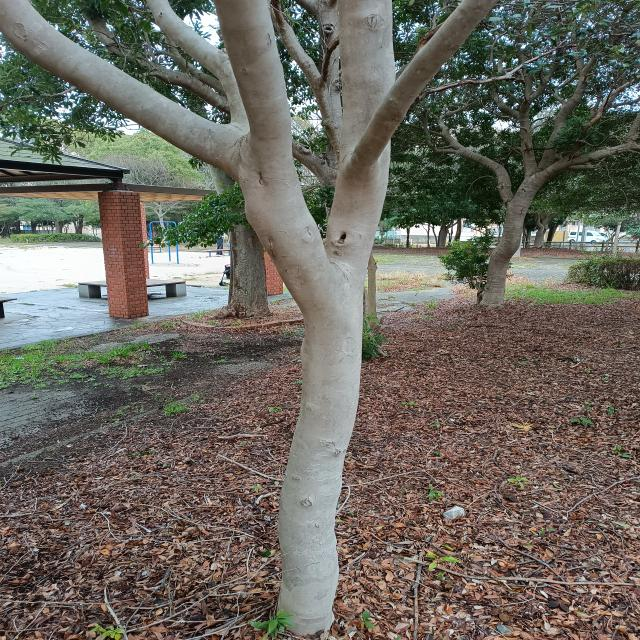Branch: (323, 0, 397, 287), (226, 138, 326, 297), (215, 2, 291, 142)
Twig: (353, 1, 499, 166)
